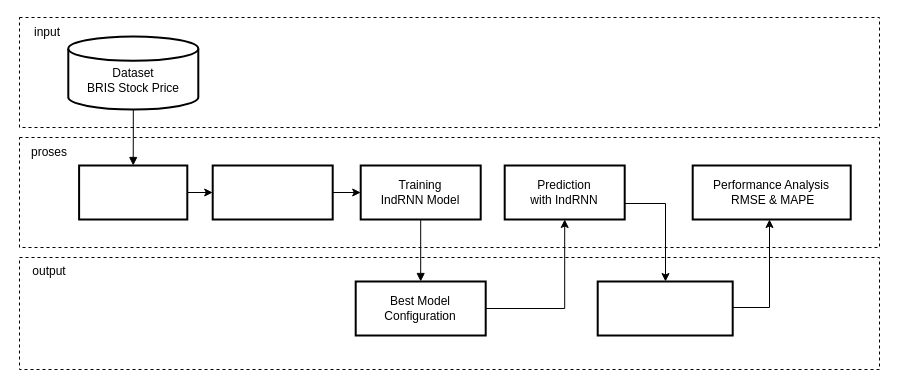
The diagram is 897 pixels wide and 387 high, and some of its shapes have lost their labels. Here are the shapes that lost their labels. From the top down, the box of each, then its label:
(78, 164, 188, 220): Preprocessing Data
(211, 164, 333, 220): Parameter Initialization
(596, 280, 733, 336): Predicted BRIS Stock Price
